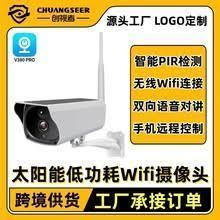tutu: (17, 93, 112, 147)
